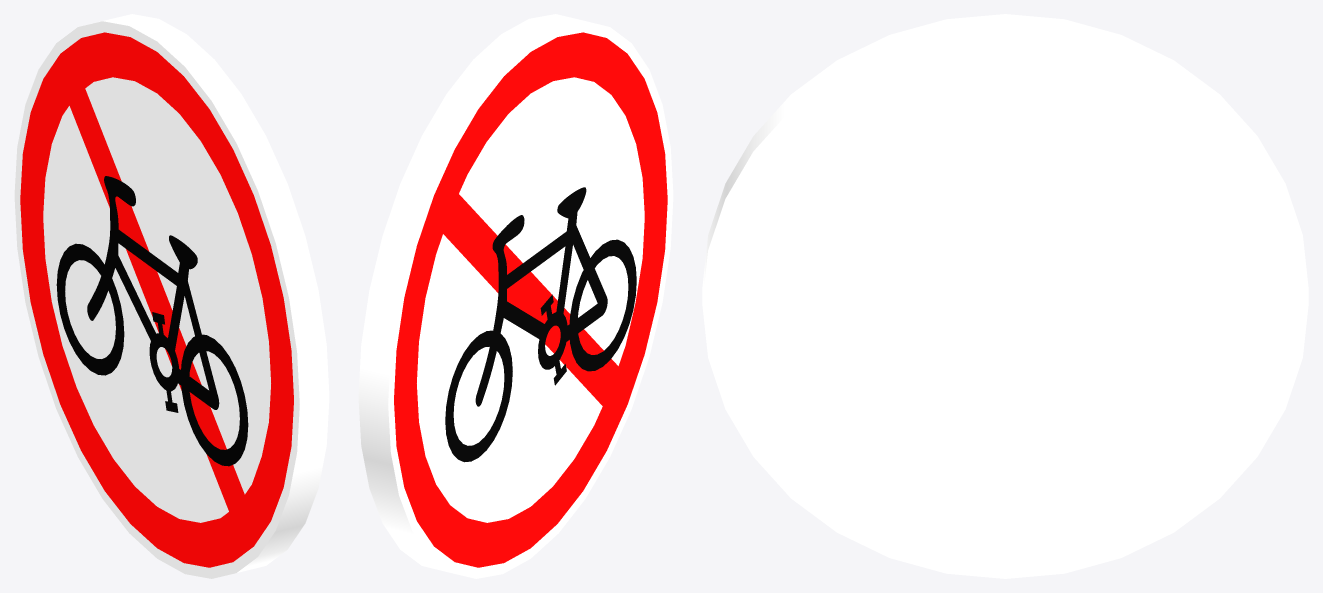
The model's file is No_NonMotorVehicle_Entry.glb.
3 renders of one model, left to right at view 1: azimuth 30°, elevation 25°; view 2: azimuth 150°, elevation 25°; view 3: azimuth 270°, elevation 25°, orthographic. The views are drawn at different scales.
Parts seen in each view (by area): view 1: No_NonMotorVehicle_Entry; view 2: No_NonMotorVehicle_Entry; view 3: No_NonMotorVehicle_Entry.
Part boxes in pixels (bbox=[...]): No_NonMotorVehicle_Entry: bbox=[14, 14, 329, 578]; No_NonMotorVehicle_Entry: bbox=[358, 14, 673, 578]; No_NonMotorVehicle_Entry: bbox=[702, 14, 1308, 578].
Size of the model in its own units: 0.075 by 1 by 1.
